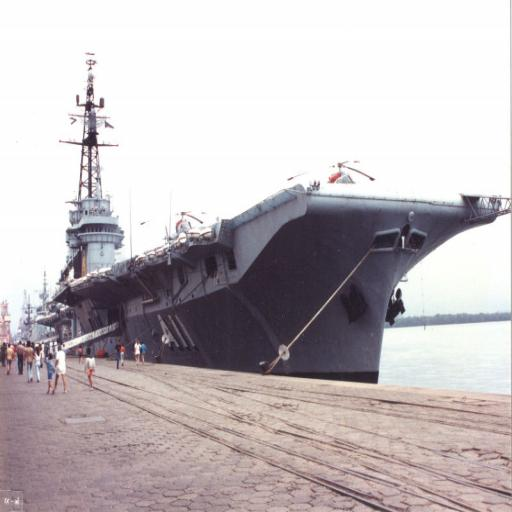Portanaves: (36, 41, 496, 394)
